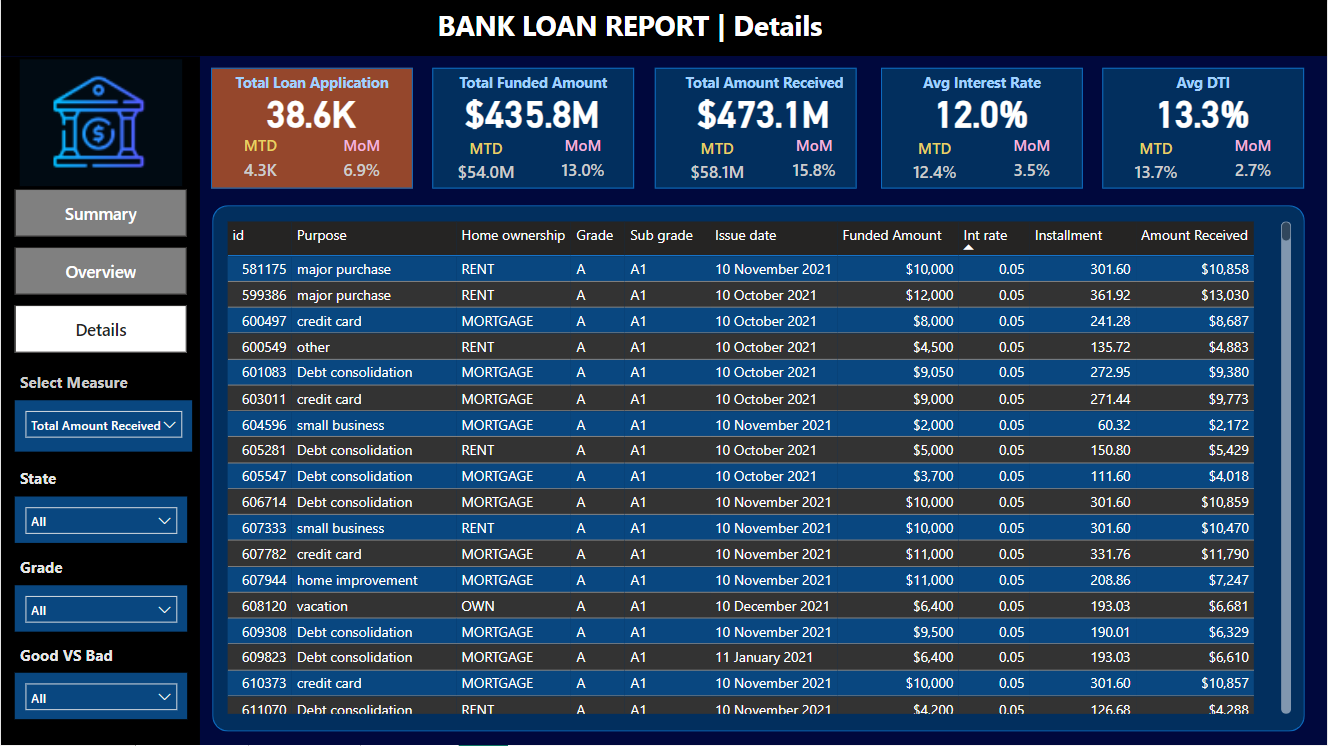

This screenshot's page, from the dashboard's own definition file:
{"tool":"powerbi","page":{"name":"Details","canvas":[1280,720],"ordinal":2},"visuals":[{"type":"shape","box":[0,0,1280.3,55],"z":0},{"type":"shape","box":[0,55.2,192.4,664.9],"z":1000},{"type":"textbox","box":[415.8,2.7,447.3,48],"z":2000},{"type":"group","id":"g1","title":"Group 1","box":[203.1,65.9,194.9,118],"z":3000},{"type":"shape","box":[203.1,65.9,194.9,116.6],"z":3000,"group":"g1"},{"type":"shape","box":[415.8,65.9,194.9,116.6],"z":3000,"group":"g2"},{"type":"shape","box":[630.7,65.9,194.9,116.6],"z":3000,"group":"g3"},{"type":"shape","box":[849.8,65.9,194.9,116.6],"z":3000,"group":"g4"},{"type":"shape","box":[1063.5,65.9,194.9,116.6],"z":3000,"group":"g5"},{"type":"card","fields":{"Values":["bank_loan_data.Total Loan Application"]},"box":[225.1,85.1,149.6,45.3],"z":4000,"group":"g1"},{"type":"card","fields":{"Values":["bank_loan_data.Total Funded Amount"]},"box":[437.8,85.1,149.6,45.3],"z":4000,"group":"g2"},{"type":"card","fields":{"Values":["bank_loan_data.Total Amount Received"]},"box":[661.4,85.1,149.6,45.3],"z":4000,"group":"g3"},{"type":"card","fields":{"Values":["bank_loan_data.Avg Interest Rate"]},"box":[871.8,85.1,149.6,45.3],"z":4000,"group":"g4"},{"type":"card","fields":{"Values":["bank_loan_data.Avg DTI"]},"box":[1085.5,85.1,149.6,45.3],"z":4000,"group":"g5"},{"type":"shape","box":[203.9,199.1,1054.4,507.9],"z":4000},{"type":"textbox","box":[203.1,65.9,194.9,32.9],"z":5000,"group":"g1"},{"type":"group","id":"g2","title":"Group 1","box":[415.8,65.9,194.9,118],"z":5000},{"type":"textbox","box":[415.8,65.9,194.9,32.9],"z":5000,"group":"g2"},{"type":"textbox","box":[639.4,65.9,194.9,32.9],"z":5000,"group":"g3"},{"type":"textbox","box":[849.8,65.9,194.9,32.9],"z":5000,"group":"g4"},{"type":"textbox","box":[1063.5,65.9,194.9,32.9],"z":5000,"group":"g5"},{"type":"group","id":"g3","title":"Group 1","box":[630.7,65.9,203.6,118.2],"z":6000},{"type":"card","title":"MTD","fields":{"Values":["bank_loan_data.MTD Loan Application"]},"box":[225.1,130.4,52.1,53.5],"z":6000,"group":"g1"},{"type":"card","title":"MTD","fields":{"Values":["bank_loan_data.MTD Funded Amount"]},"box":[432.6,133.3,70,50.8],"z":6000,"group":"g2"},{"type":"card","title":"MTD","fields":{"Values":["bank_loan_data.MTD Total Amount Received"]},"box":[656.2,133.3,70,50.8],"z":6000,"group":"g3"},{"type":"card","title":"MTD","fields":{"Values":["bank_loan_data.MTD Avg Interest Rate"]},"box":[866.6,133.3,70,50.8],"z":6000,"group":"g4"},{"type":"card","title":"MTD","fields":{"Values":["bank_loan_data.MTD Avg DTI"]},"box":[1080.3,133.3,70,50.8],"z":6000,"group":"g5"},{"type":"group","id":"g4","title":"Group 1","box":[849.8,65.9,194.9,118],"z":7000},{"type":"card","title":"MoM","fields":{"Values":["bank_loan_data.MoM Loan Application"]},"box":[322.5,130.4,52.1,53.5],"z":7000,"group":"g1"},{"type":"card","title":"MoM","fields":{"Values":["bank_loan_data.MoM Total Funded Amount"]},"box":[535.2,130.4,52.1,53.5],"z":7000,"group":"g2"},{"type":"card","title":"MoM","fields":{"Values":["bank_loan_data.MoM Total Amount Received"]},"box":[758.8,130.4,52.1,53.5],"z":7000,"group":"g3"},{"type":"card","title":"MoM","fields":{"Values":["bank_loan_data.MoM Avg Interest Rate"]},"box":[969.2,130.4,52.1,53.5],"z":7000,"group":"g4"},{"type":"card","title":"MoM","fields":{"Values":["bank_loan_data.MoM Avg DTI"]},"box":[1182.9,130.4,52.1,53.5],"z":7000,"group":"g5"},{"type":"group","id":"g5","title":"Group 1","box":[1063.5,65.9,194.9,118],"z":8000},{"type":"slicer","fields":{"Values":["bank_loan_data.address_state"]},"box":[13.3,480.2,166.5,44.6],"z":9000},{"type":"textbox","box":[13.3,447.6,65.1,32.6],"z":10000},{"type":"slicer","fields":{"Values":["bank_loan_data.address_state"]},"box":[13.3,565.8,166.5,44.6],"z":11000},{"type":"slicer","fields":{"Values":["bank_loan_data.GOOD VS BAD loan"]},"box":[13.3,650.3,166.5,44.6],"z":12000},{"type":"textbox","box":[13.3,533.2,65.1,32.6],"z":13000},{"type":"textbox","box":[13.3,617.7,121.9,32.6],"z":14000},{"type":"slicer","fields":{"Values":["Select Measure.Select Measure"]},"box":[13.3,387.3,171.3,49.5],"z":15000},{"type":"textbox","box":[13.3,354.7,166.5,32.6],"z":16000},{"type":"tableEx","fields":{"Values":["bank_loan_data.id","bank_loan_data.purpose","bank_loan_data.home_ownership","bank_loan_data.grade","bank_loan_data.sub_grade","bank_loan_data.issue_date","bank_loan_data.Total Funded Amount","Sum(bank_loan_data.int_rate)","Sum(bank_loan_data.installment)","bank_loan_data.Total Amount Received"]},"box":[212.3,209.9,1037.5,485],"z":17000},{"type":"pageNavigator","box":[13.3,183.4,166.5,159.3],"z":18000},{"type":"image","box":[13.3,39.8,166.5,159.3],"z":19000}]}

Visuals, with their boxes in screenshot pixels (x1, y1, x2, y2), scaled from the page's 1280x720 canvas onto the 1328x746 screenshot:
shape: left=0, top=0, right=1327, bottom=57
shape: left=0, top=57, right=200, bottom=745
textbox: left=431, top=3, right=895, bottom=53
"Group 1" group: left=211, top=68, right=413, bottom=191
shape: left=211, top=68, right=413, bottom=189
shape: left=431, top=68, right=634, bottom=189
shape: left=654, top=68, right=857, bottom=189
shape: left=882, top=68, right=1084, bottom=189
shape: left=1103, top=68, right=1306, bottom=189
card - bank_loan_data.Total Loan Application: left=234, top=88, right=389, bottom=135
card - bank_loan_data.Total Funded Amount: left=454, top=88, right=609, bottom=135
card - bank_loan_data.Total Amount Received: left=686, top=88, right=841, bottom=135
card - bank_loan_data.Avg Interest Rate: left=904, top=88, right=1060, bottom=135
card - bank_loan_data.Avg DTI: left=1126, top=88, right=1281, bottom=135
shape: left=212, top=206, right=1305, bottom=733
textbox: left=211, top=68, right=413, bottom=102
"Group 1" group: left=431, top=68, right=634, bottom=191
textbox: left=431, top=68, right=634, bottom=102
textbox: left=663, top=68, right=866, bottom=102
textbox: left=882, top=68, right=1084, bottom=102
textbox: left=1103, top=68, right=1306, bottom=102
"Group 1" group: left=654, top=68, right=866, bottom=191
"MTD" card: left=234, top=135, right=288, bottom=191
"MTD" card: left=449, top=138, right=521, bottom=191
"MTD" card: left=681, top=138, right=753, bottom=191
"MTD" card: left=899, top=138, right=972, bottom=191
"MTD" card: left=1121, top=138, right=1193, bottom=191
"Group 1" group: left=882, top=68, right=1084, bottom=191
"MoM" card: left=335, top=135, right=389, bottom=191
"MoM" card: left=555, top=135, right=609, bottom=191
"MoM" card: left=787, top=135, right=841, bottom=191
"MoM" card: left=1006, top=135, right=1060, bottom=191
"MoM" card: left=1227, top=135, right=1281, bottom=191
"Group 1" group: left=1103, top=68, right=1306, bottom=191
slicer - bank_loan_data.address_state: left=14, top=498, right=187, bottom=544
textbox: left=14, top=464, right=81, bottom=498
slicer - bank_loan_data.address_state: left=14, top=586, right=187, bottom=632
slicer - bank_loan_data.GOOD VS BAD loan: left=14, top=674, right=187, bottom=720
textbox: left=14, top=552, right=81, bottom=586
textbox: left=14, top=640, right=140, bottom=674
slicer - Select Measure.Select Measure: left=14, top=401, right=192, bottom=453
textbox: left=14, top=368, right=187, bottom=401
tableEx - bank_loan_data.id x bank_loan_data.purpose: left=220, top=217, right=1297, bottom=720
pageNavigator: left=14, top=190, right=187, bottom=355
image: left=14, top=41, right=187, bottom=206
